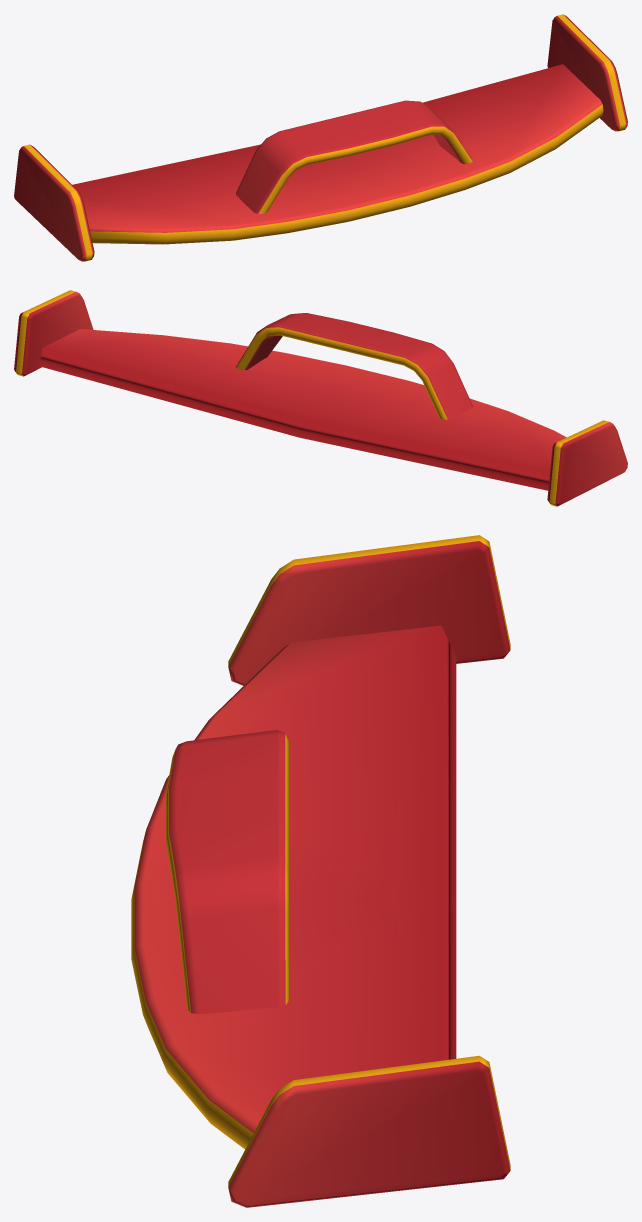
File: Car_10_FrontBumper_Cool.fbx
3 views of the same model, one above another, from view 1: azimuth 30°, elevation 25°; view 2: azimuth 150°, elevation 25°; view 3: azimuth 270°, elevation 25° (orthographic). The views are drawn at different scales.
Parts seen in each view (by area): view 1: Car_10_FrontBumper_Cool; view 2: Car_10_FrontBumper_Cool; view 3: Car_10_FrontBumper_Cool.
Part boxes in pixels (left/top/right/bottom): Car_10_FrontBumper_Cool: left=14, top=14, right=627, bottom=261; Car_10_FrontBumper_Cool: left=14, top=290, right=627, bottom=506; Car_10_FrontBumper_Cool: left=131, top=535, right=510, bottom=1207.
Size of the model in its own units: 253 by 75.96 by 32.82.
